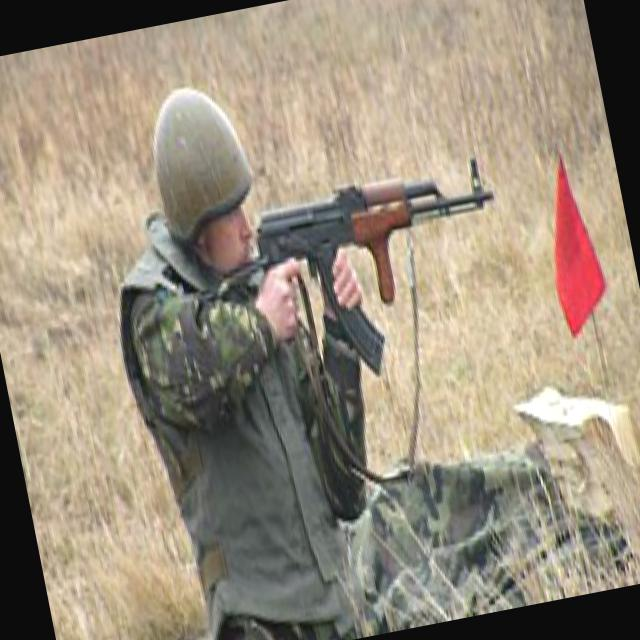long weapon: (160, 148, 530, 408)
